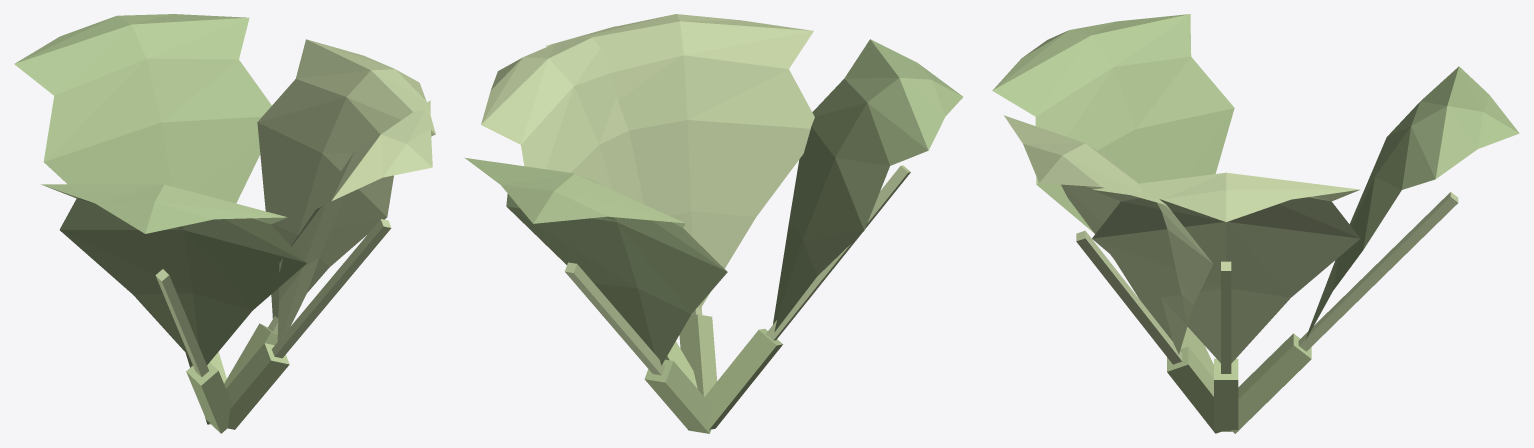
The model's file is crafted-crop-turnip-1.glb.
3 views of the same model, side by side, from view 1: azimuth 30°, elevation 25°; view 2: azimuth 150°, elevation 25°; view 3: azimuth 270°, elevation 25° (orthographic). The views are drawn at different scales.
Parts seen in each view (by area): view 1: turnip-leaf-2, turnip-leaf-1, turnip-leaf, turnip-leaf-3, leaf-vein-3, leaf-stalk-3, leaf-stalk-1, leaf-vein-1, leaf-stalk; view 2: turnip-leaf-3, turnip-leaf-1, turnip-leaf-2, turnip-leaf, leaf-stalk-1, leaf-stalk-2, leaf-stalk-3, leaf-vein-2, leaf-vein-1, leaf-stalk; view 3: turnip-leaf, turnip-leaf-1, turnip-leaf-2, turnip-leaf-3, leaf-vein-2, leaf-stalk-2, leaf-vein-3, leaf-stalk-3, leaf-stalk, leaf-vein, leaf-stalk-1.
Part boxes in pixels (x1,y1,x2,y2): turnip-leaf-2: [14, 14, 271, 203]; turnip-leaf-1: [41, 184, 306, 364]; turnip-leaf: [257, 39, 435, 318]; turnip-leaf-3: [277, 100, 432, 348]; leaf-vein-3: [271, 219, 391, 358]; leaf-stalk-3: [226, 343, 289, 429]; leaf-stalk-1: [186, 362, 232, 433]; leaf-vein-1: [155, 269, 208, 376]; leaf-stalk: [224, 323, 277, 388]; turnip-leaf-3: [546, 14, 814, 309]; turnip-leaf-1: [773, 39, 962, 331]; turnip-leaf-2: [464, 157, 727, 365]; turnip-leaf: [481, 26, 643, 204]; leaf-stalk-1: [705, 328, 782, 429]; leaf-stalk-2: [644, 359, 711, 433]; leaf-stalk-3: [679, 314, 717, 396]; leaf-vein-2: [565, 262, 664, 375]; leaf-vein-1: [766, 165, 910, 340]; leaf-stalk: [665, 341, 697, 429]; turnip-leaf: [1092, 172, 1360, 363]; turnip-leaf-1: [992, 14, 1234, 232]; turnip-leaf-2: [1305, 66, 1519, 340]; turnip-leaf-3: [1004, 115, 1212, 354]; leaf-vein-2: [1298, 192, 1458, 351]; leaf-stalk-2: [1230, 333, 1311, 433]; leaf-vein-3: [1076, 230, 1182, 364]; leaf-stalk-3: [1167, 346, 1222, 433]; leaf-stalk: [1214, 358, 1238, 431]; leaf-vein: [1221, 261, 1231, 373]; leaf-stalk-1: [1181, 327, 1213, 378].
Bounding box in the file's own units: 0.2734 × 0.212 × 0.3044.
